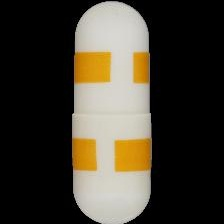10544-967: (0, 0, 224, 224)
